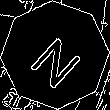N_NE: (23, 23, 87, 87)
